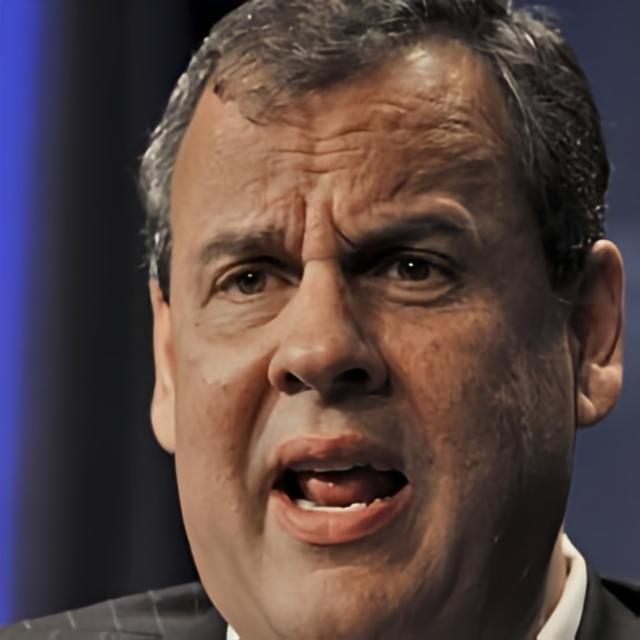anger: (164, 76, 576, 640)
